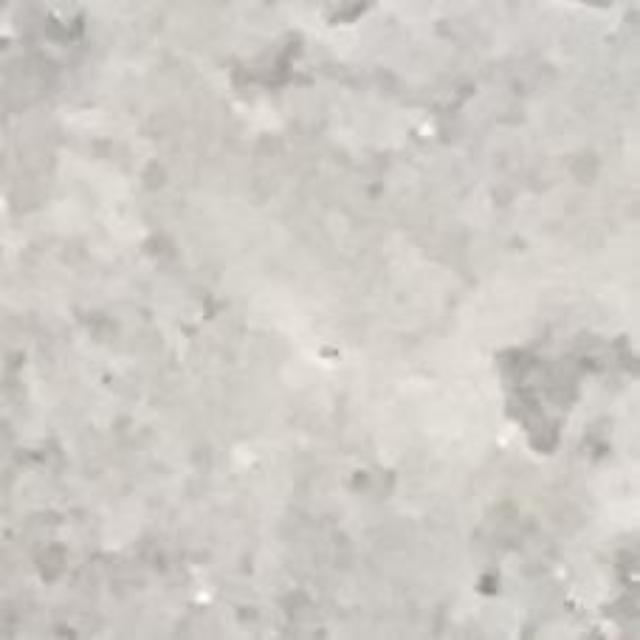peeling plaster: (494, 330, 639, 456)
